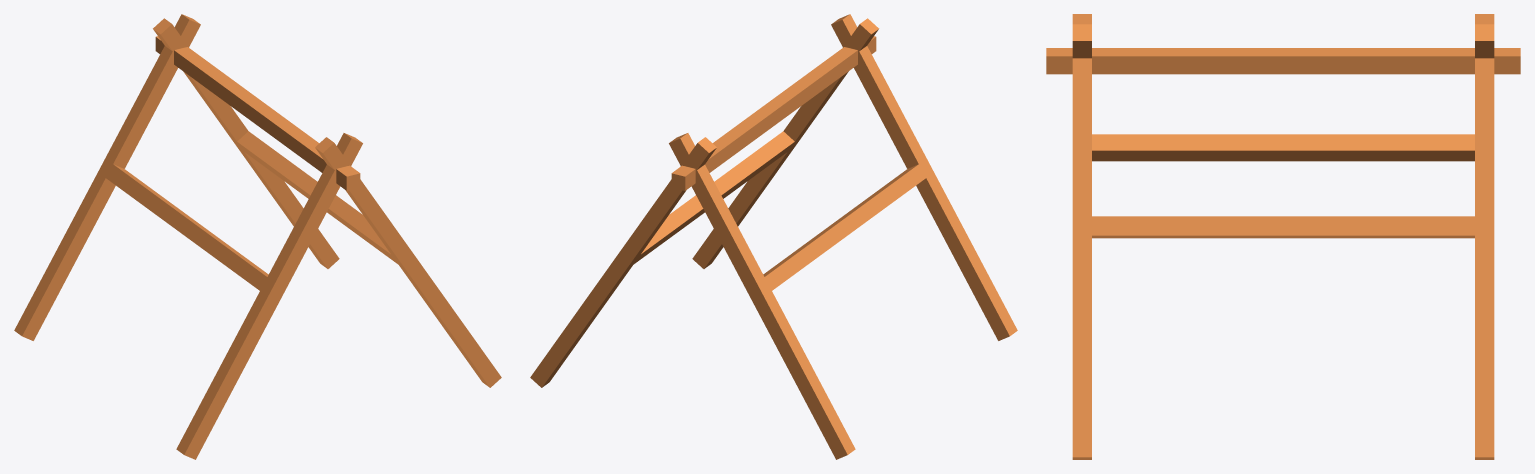
Rendered from TentFrame.glb.
3 renders of one model, left to right at view 1: azimuth 30°, elevation 25°; view 2: azimuth 150°, elevation 25°; view 3: azimuth 270°, elevation 25°, orthographic. The views are drawn at different scales.
Visible parts, largest first — view 1: tent; view 2: tent; view 3: tent.
Boxes of the visible parts, bbox=[...] form: tent: bbox=[14, 14, 501, 459]; tent: bbox=[530, 14, 1017, 459]; tent: bbox=[1046, 14, 1520, 459].
Size of the model in its own units: 0.5392 by 0.4598 by 0.5623.
